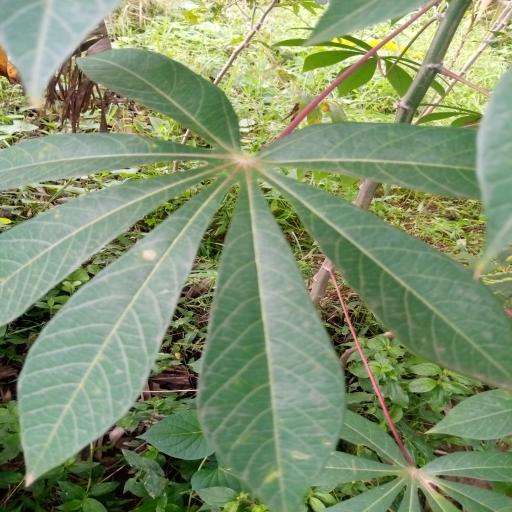Cassava_Brown_Leaf_Spot: (5, 44, 512, 508)
